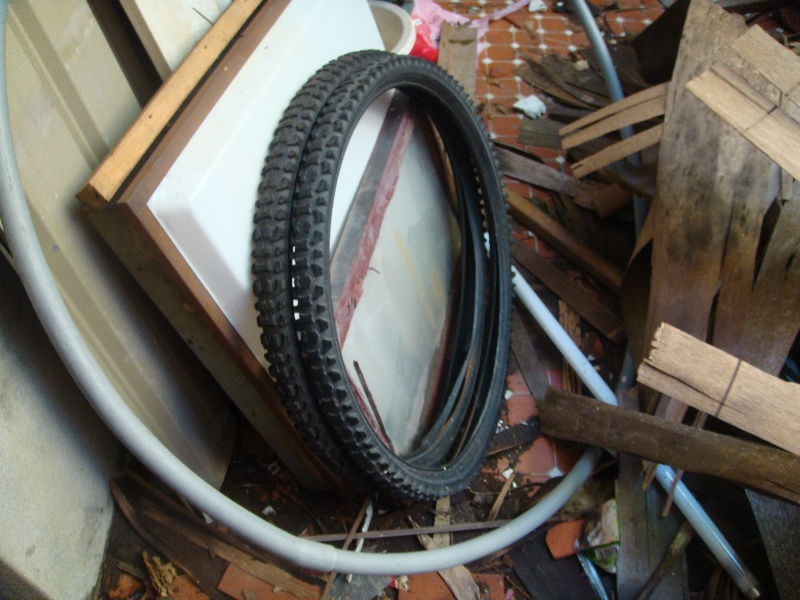tire: (248, 48, 496, 496), (289, 54, 515, 500)
